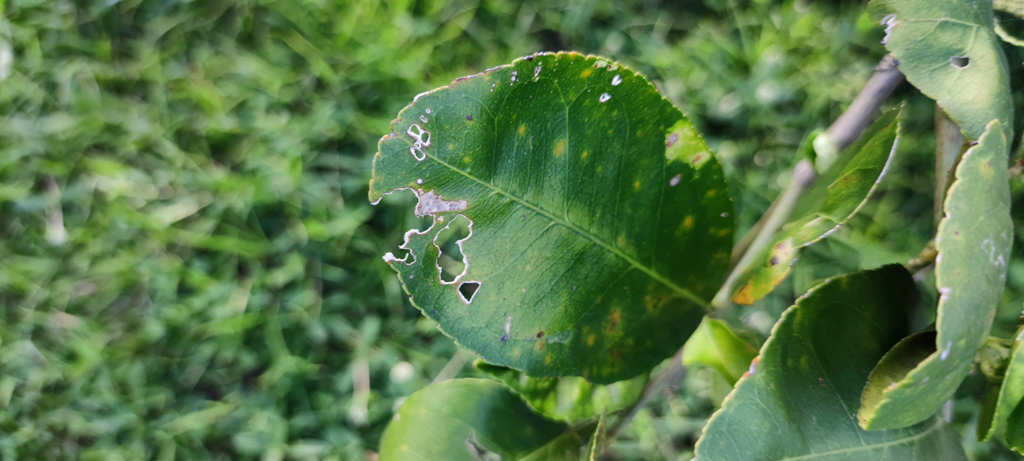Canker: (572, 283, 685, 358), (512, 120, 590, 172), (657, 127, 712, 196)
